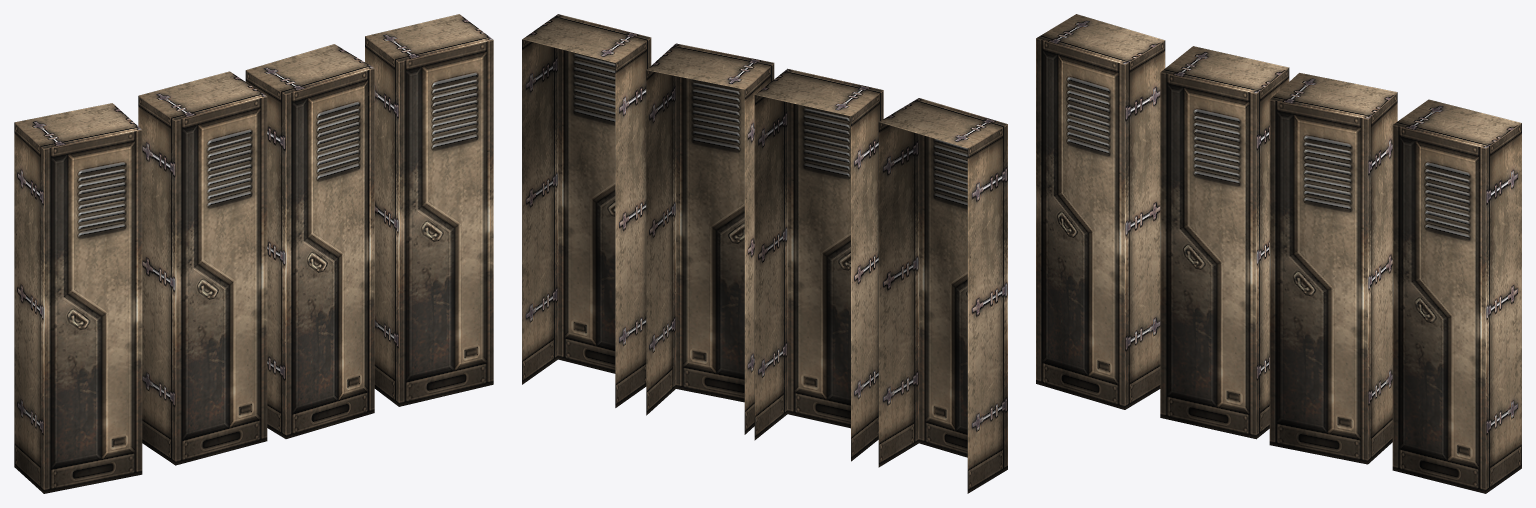
Rendered from mprw_lockers.FBX.
The picture shows the model from 3 angles, left to right: view 1: azimuth 30°, elevation 25°; view 2: azimuth 150°, elevation 25°; view 3: azimuth 330°, elevation 25°; orthographic projection.
Visible parts, largest first — view 1: mprw_lockers; view 2: mprw_lockers; view 3: mprw_lockers.
Part boxes in pixels (box(x1,y1,x2,y2)): mprw_lockers: box(14, 14, 493, 493); mprw_lockers: box(522, 14, 1007, 493); mprw_lockers: box(1036, 14, 1521, 493).
Size of the model in its own units: 376 by 275 by 58.18.
Materials: 1 (1 with a texture image).
